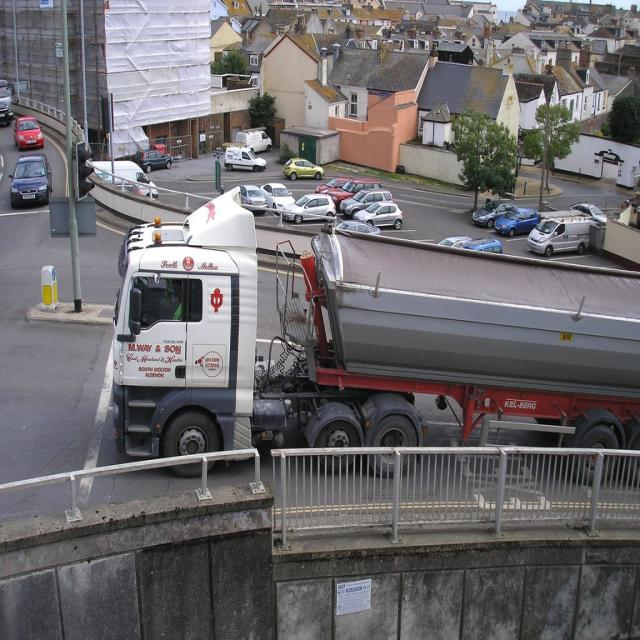car: (221, 143, 264, 172), (11, 112, 43, 146), (285, 157, 320, 179)
